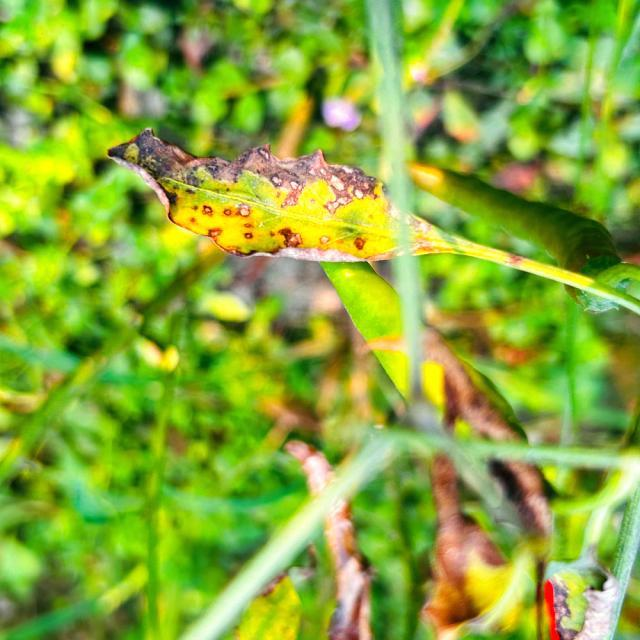Bercak Daun Serkospora: (107, 126, 463, 268)
